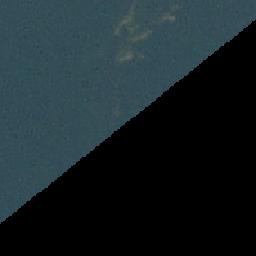debris: (119, 47, 134, 63), (129, 32, 150, 43), (124, 12, 134, 30), (161, 12, 174, 21), (135, 53, 144, 57)
